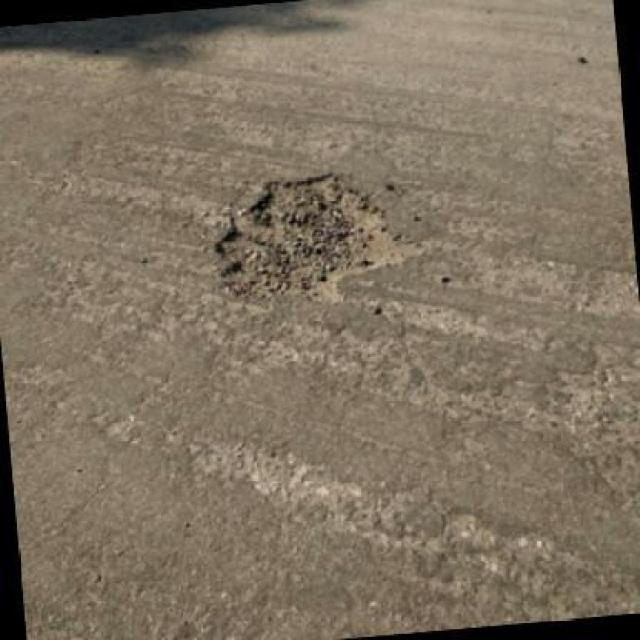pothole: (214, 174, 403, 300)
